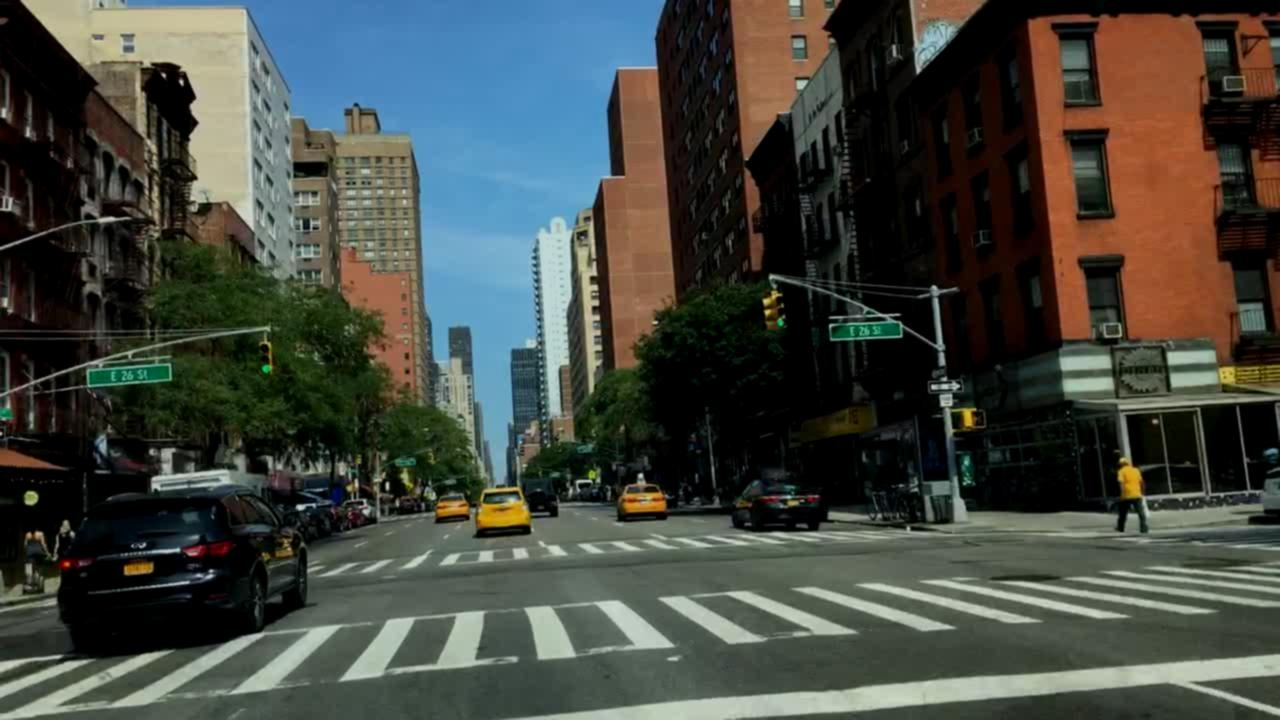Infiniti: (121, 538, 161, 551)
